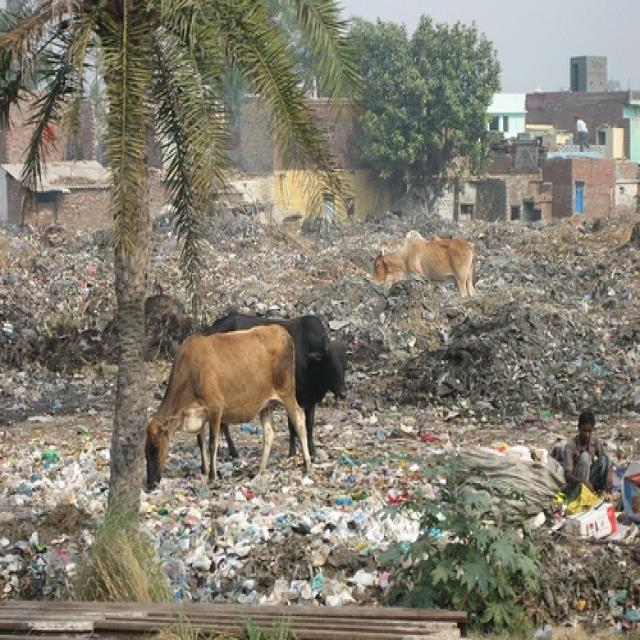cow: (149, 325, 314, 489), (209, 314, 350, 459), (373, 233, 476, 296)
person: (566, 411, 612, 501)
